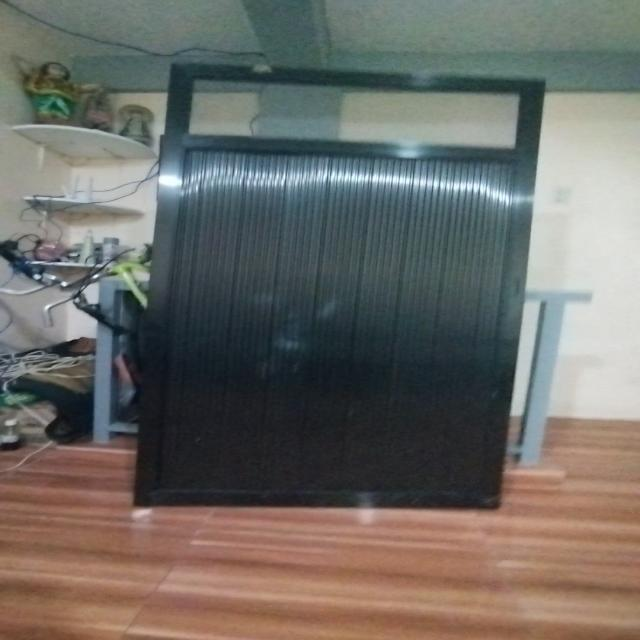door: (137, 65, 555, 512)
